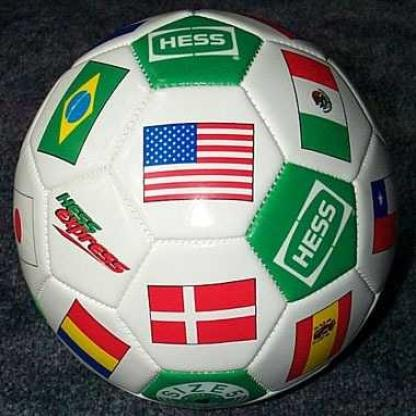ball: (12, 10, 400, 406)
